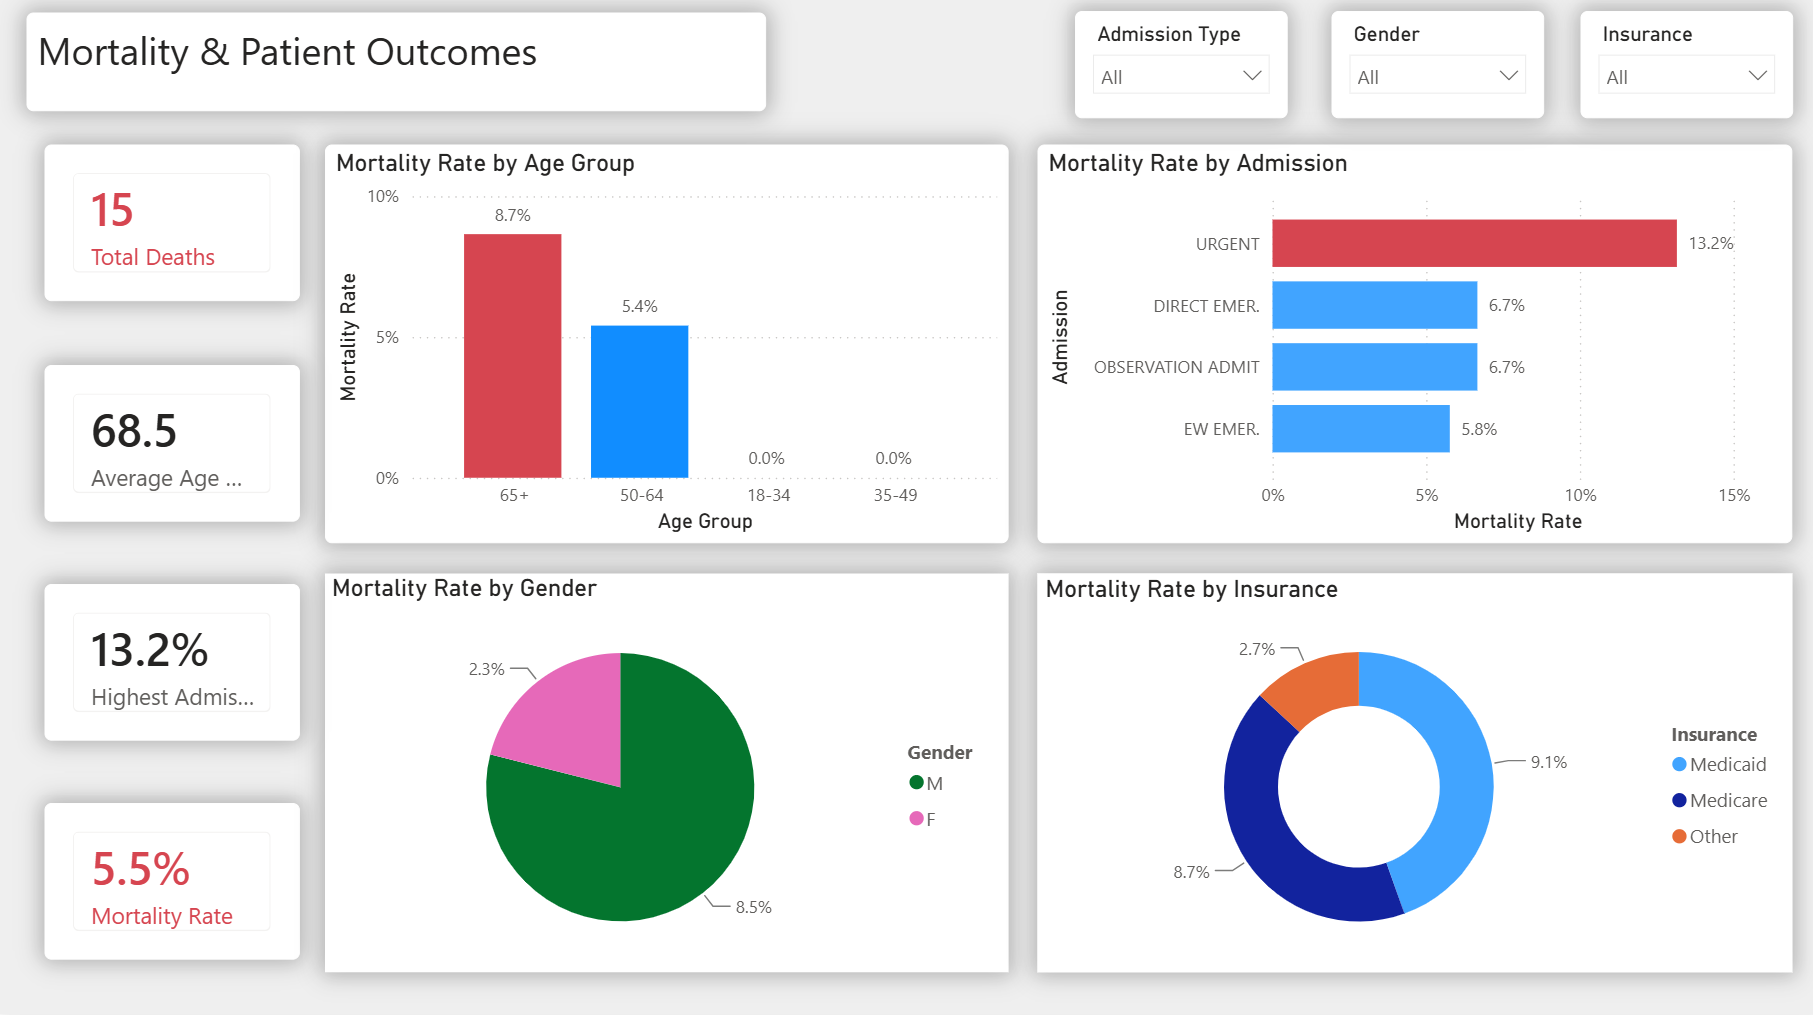

The page's visual inventory and layout, read from the dashboard file:
{"tool":"powerbi","page":{"name":"Mortality Analysis","canvas":[1280,720],"ordinal":3},"visuals":[{"type":"cardVisual","fields":{"Data":["public patient_summary_view.Total Deaths"]},"box":[32.3,108.9,179.6,110.1],"z":0},{"type":"cardVisual","fields":{"Data":["public patient_summary_view.Mortality Rate"]},"box":[32.3,571,179.6,110.1],"z":1000},{"type":"clusteredColumnChart","fields":{"Category":["public patient_summary_view.age_group"],"Y":["public patient_summary_view.Mortality Rate"]},"box":[229.8,108.9,480,280],"z":2000},{"type":"pieChart","fields":{"Category":["public patient_summary_view.gender"],"Y":["public patient_summary_view.Mortality Rate"]},"box":[229.8,409.4,480,280.1],"z":3000},{"type":"clusteredBarChart","fields":{"Y":["public patient_summary_view.Mortality Rate"],"Category":["public patient_summary_view.admission_type"]},"box":[730.2,108.9,530.3,280],"z":4000},{"type":"donutChart","fields":{"Category":["public patient_summary_view.insurance"],"Y":["public patient_summary_view.Mortality Rate"]},"box":[730.2,409.4,530.3,280.1],"z":5000},{"type":"cardVisual","fields":{"Data":["public patient_analysis_view.Average Age of Death"]},"box":[32.3,262.9,179.6,110.1],"z":6000},{"type":"cardVisual","fields":{"Data":["public patient_analysis_view.Highest Admission Morality"]},"box":[32.3,417,179.6,110.1],"z":7000},{"type":"textbox","box":[20.3,15.6,519.5,69.4],"z":8000},{"type":"slicer","fields":{"Values":["public patient_summary_view.admission_type"]},"box":[756.5,14.4,149.6,75.4],"z":9000},{"type":"slicer","fields":{"Values":["public patient_summary_view.insurance"]},"box":[1110.8,14.4,149.6,75.4],"z":10000},{"type":"slicer","fields":{"Values":["public patient_summary_view.gender"]},"box":[936.1,14.4,149.6,75.4],"z":11000}]}

Visuals, with their boxes in screenshot pixels (x1, y1, x2, y2), scaled from the page's 1280x720 canvas onto the 1813x1015 screenshot:
cardVisual - public patient_summary_view.Total Deaths: [46, 154, 300, 309]
cardVisual - public patient_summary_view.Mortality Rate: [46, 805, 300, 960]
clusteredColumnChart - public patient_summary_view.age_group x public patient_summary_view.Mortality Rate: [325, 154, 1005, 548]
pieChart - public patient_summary_view.gender x public patient_summary_view.Mortality Rate: [325, 577, 1005, 972]
clusteredBarChart - public patient_summary_view.Mortality Rate x public patient_summary_view.admission_type: [1034, 154, 1785, 548]
donutChart - public patient_summary_view.insurance x public patient_summary_view.Mortality Rate: [1034, 577, 1785, 972]
cardVisual - public patient_analysis_view.Average Age of Death: [46, 371, 300, 526]
cardVisual - public patient_analysis_view.Highest Admission Morality: [46, 588, 300, 743]
textbox: [29, 22, 765, 120]
slicer - public patient_summary_view.admission_type: [1072, 20, 1283, 127]
slicer - public patient_summary_view.insurance: [1573, 20, 1785, 127]
slicer - public patient_summary_view.gender: [1326, 20, 1538, 127]
